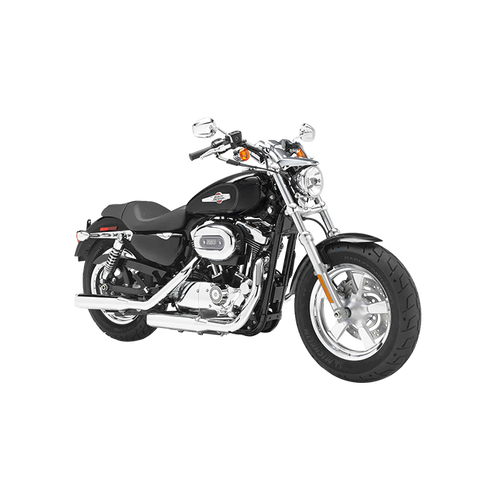摩托车: (47, 75, 440, 399)
